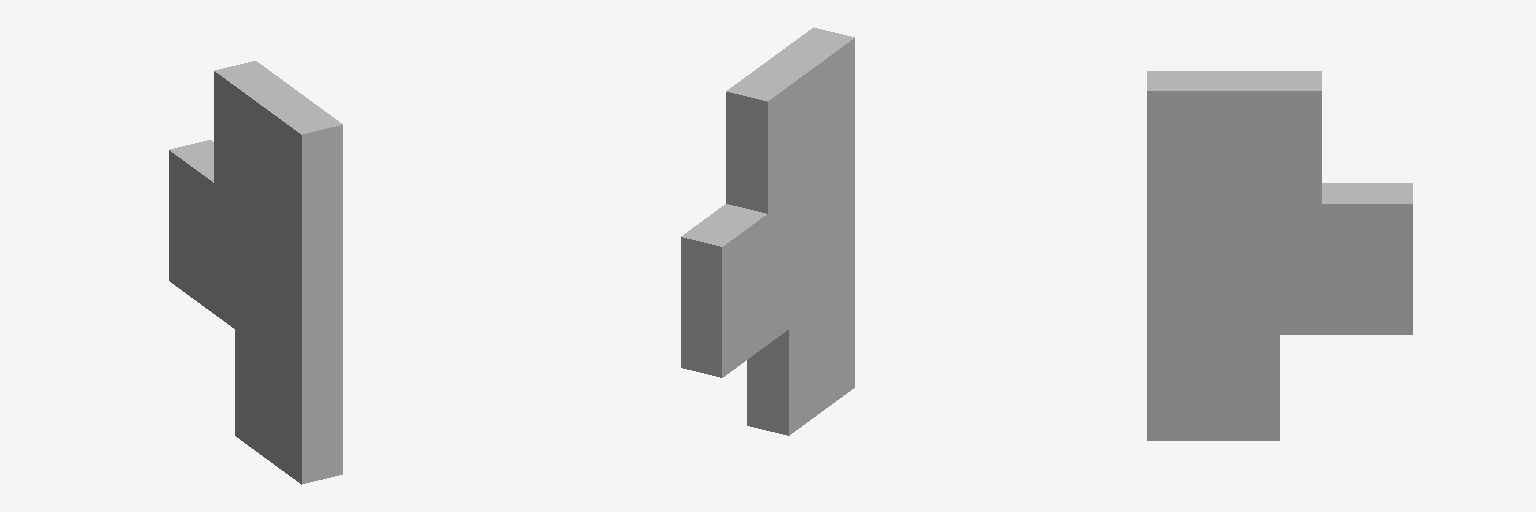
The model's file is door-03-left_door.obj.
3 renders of one model, left to right at view 1: azimuth 30°, elevation 25°; view 2: azimuth 150°, elevation 25°; view 3: azimuth 270°, elevation 25°, orthographic.
Parts seen in each view (by area): view 1: Plane.003_Plane.001; view 2: Plane.003_Plane.001; view 3: Plane.003_Plane.001.
Boxes of the visible parts, <box> form: Plane.003_Plane.001: <box>169,61,342,484</box>; Plane.003_Plane.001: <box>681,27,854,435</box>; Plane.003_Plane.001: <box>1147,71,1412,440</box>.
Bounding box in the file's own units: 0.5 × 4 × 2.75.